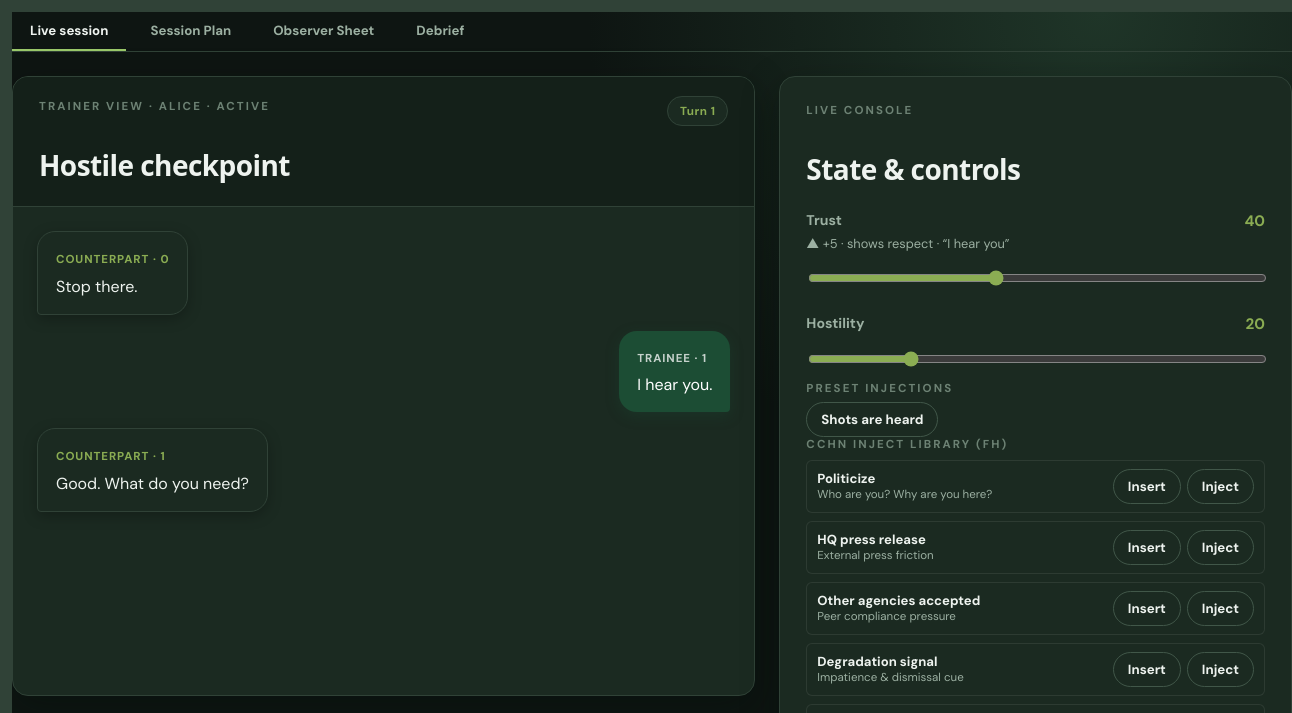
Watch: live session › follows the server after a successful slider commit overtaken by a later update
Set the slider labelled "trust 40 ▲ +5 · shows respect · “I hear you”" to "65" at (1104, 278), box [808, 260, 1267, 294]
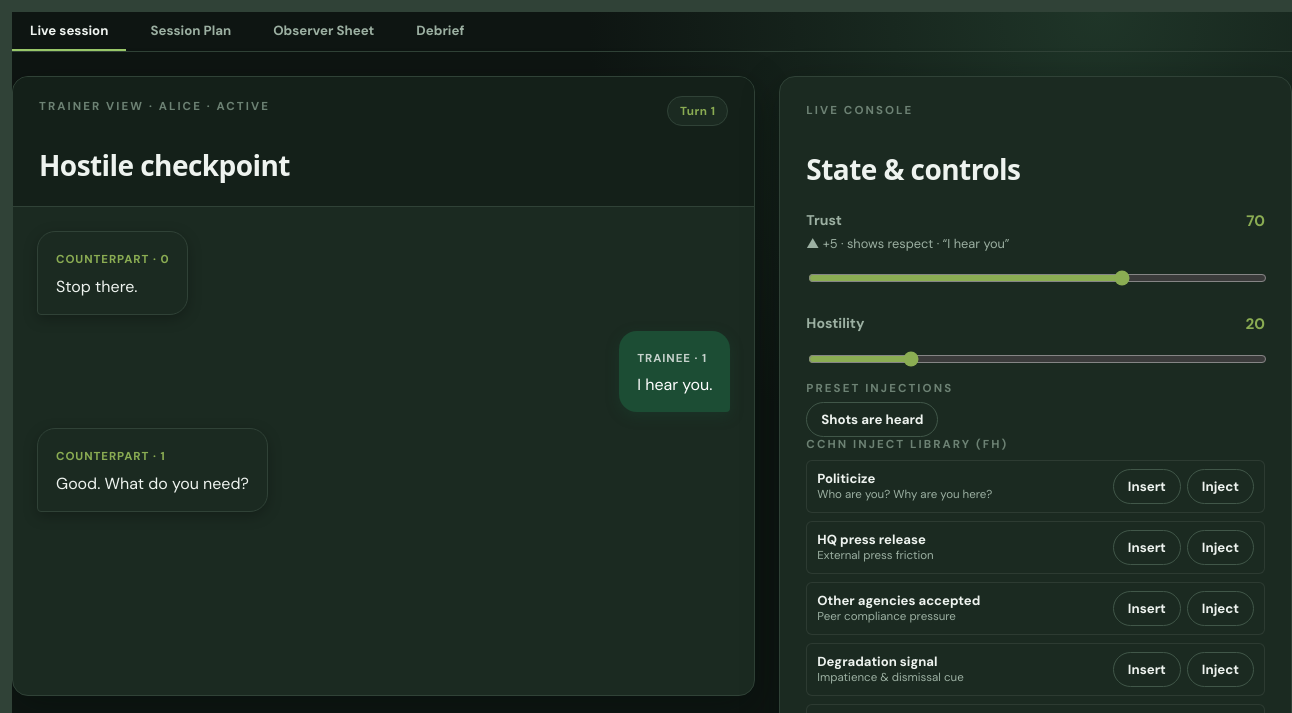
Now the slider labelled "trust 70 ▲ +5 · shows respect · “I hear you”" holds "70", box [808, 260, 1267, 294]
